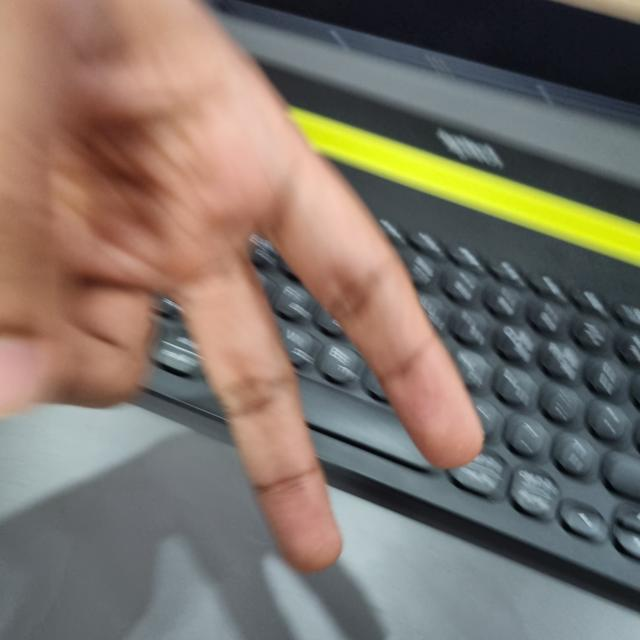Scissors: (0, 0, 480, 569)
